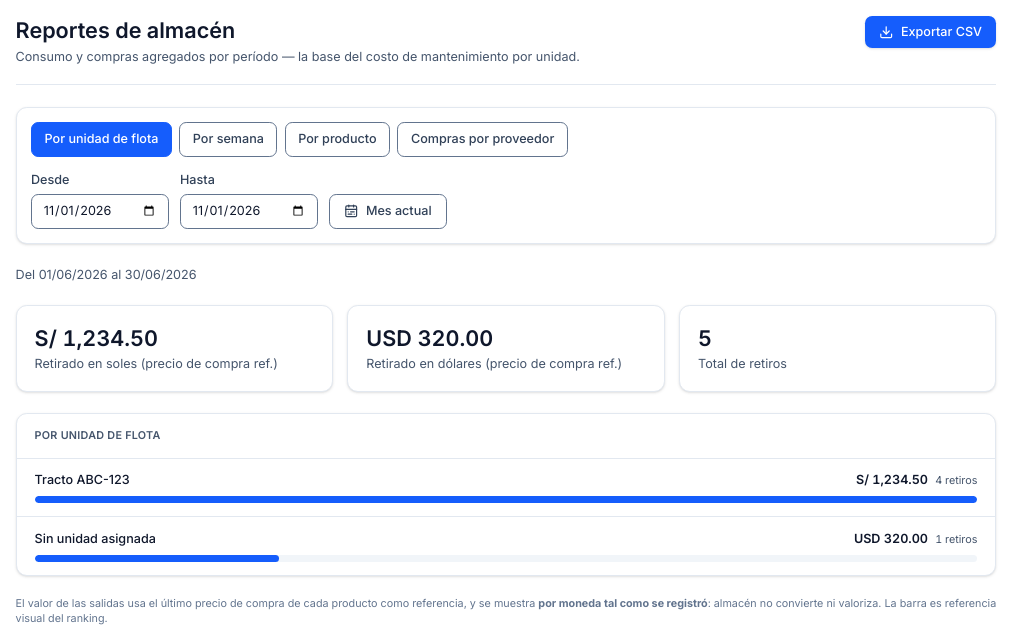
Test: WarehouseReportsPage › rotula el conteo según el corte
Expected: the text "Tracto ABC-123" is shown, [35,471,130,489]
Click the tab "Por producto": (337, 139) [285,122,390,156]
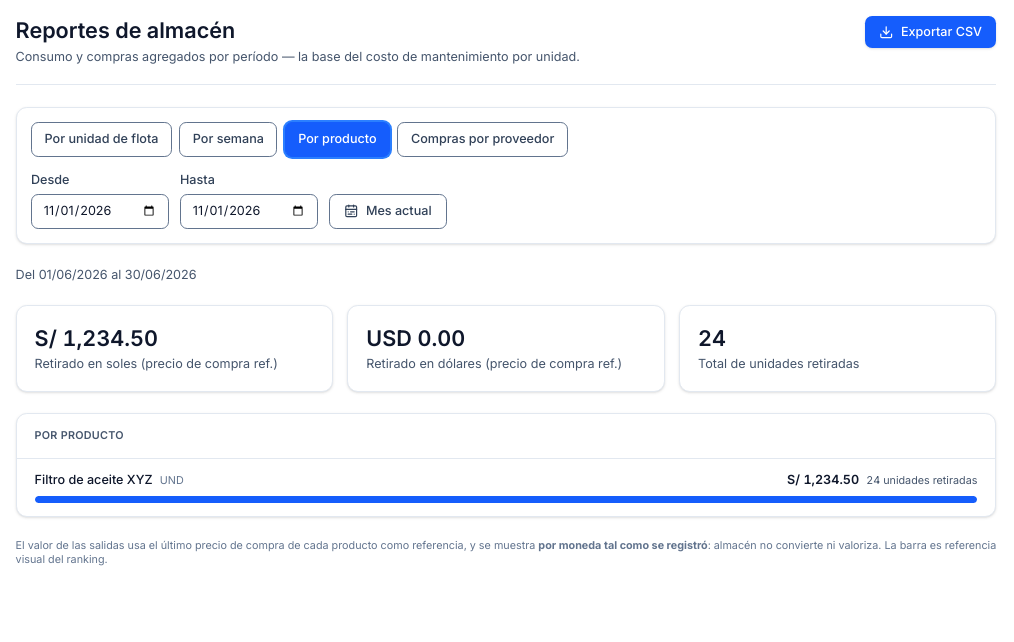
Now the text "24 unidades retiradas" is shown, box [866,474,977,487]
